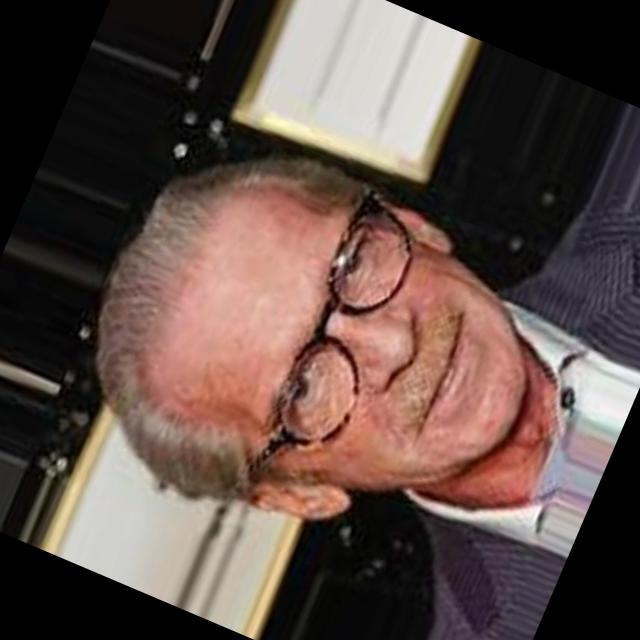bareface: (61, 105, 589, 594)
